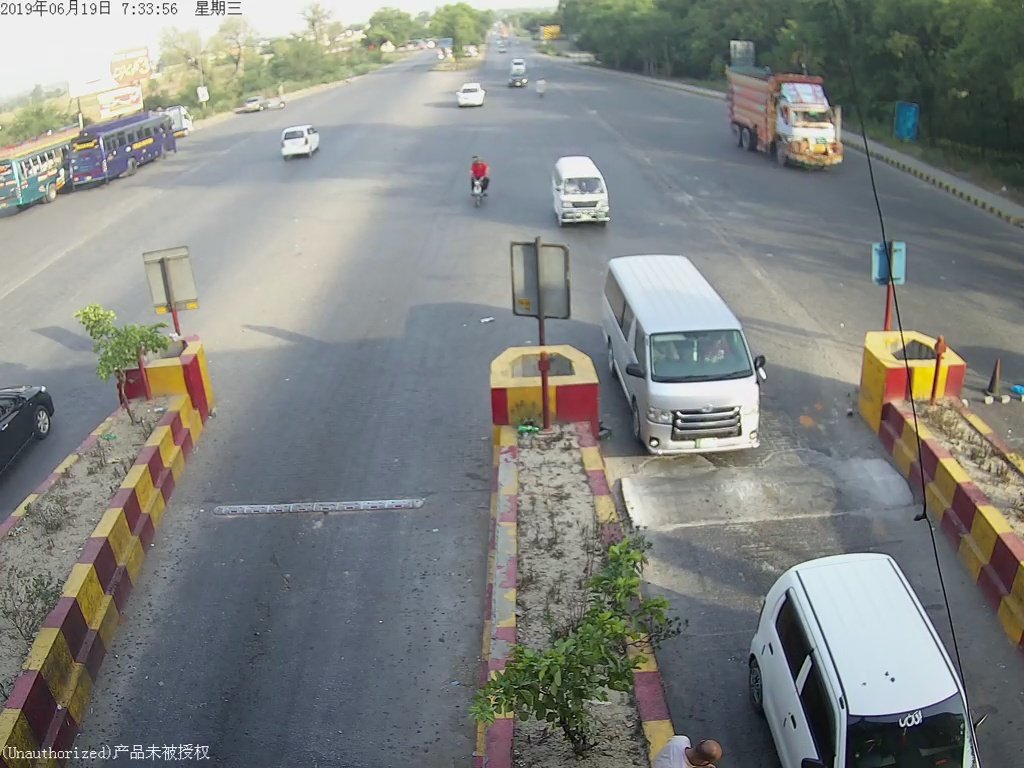Cat-1: (743, 537, 982, 768), (543, 151, 619, 225)
Cat-2: (605, 259, 770, 469)
